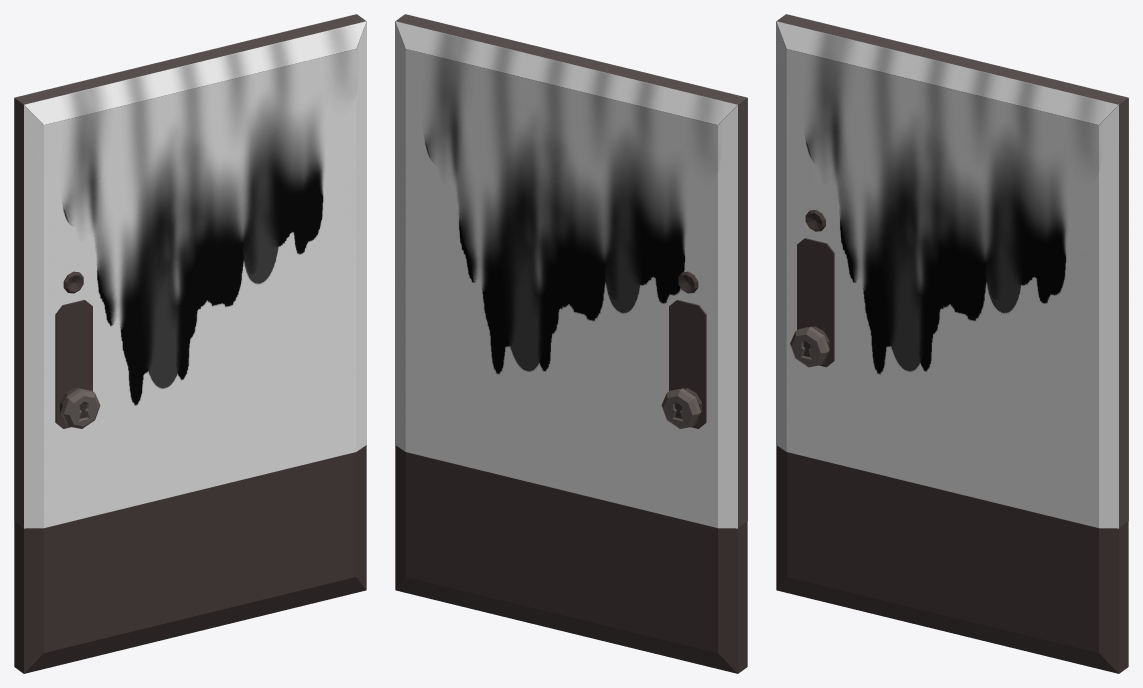
Rendered from 1788457318041_electrical_door.glb.
3 views of the same model, side by side, from view 1: azimuth 30°, elevation 25°; view 2: azimuth 150°, elevation 25°; view 3: azimuth 330°, elevation 25° (orthographic).
Visible parts, largest first — view 1: Object_6, Object_5, Object_3, Object_4; view 2: Object_6, Object_5, Object_3, Object_4; view 3: Object_6, Object_5, Object_3, Object_4.
Boxes of the visible parts, left/top/right/bottom form: Object_6: left=14, top=14, right=366, bottom=528; Object_5: left=14, top=271, right=366, bottom=673; Object_3: left=14, top=14, right=366, bottom=527; Object_4: left=60, top=388, right=100, bottom=428; Object_6: left=395, top=14, right=747, bottom=528; Object_5: left=395, top=271, right=747, bottom=673; Object_3: left=395, top=14, right=747, bottom=527; Object_4: left=661, top=388, right=700, bottom=428; Object_6: left=776, top=14, right=1128, bottom=528; Object_5: left=776, top=210, right=1128, bottom=673; Object_3: left=776, top=14, right=1128, bottom=527; Object_4: left=790, top=326, right=829, bottom=367.
Bounding box in the file's own units: 4.97 × 7.88 × 0.9998.
Materials: 5 (1 with a texture image).
